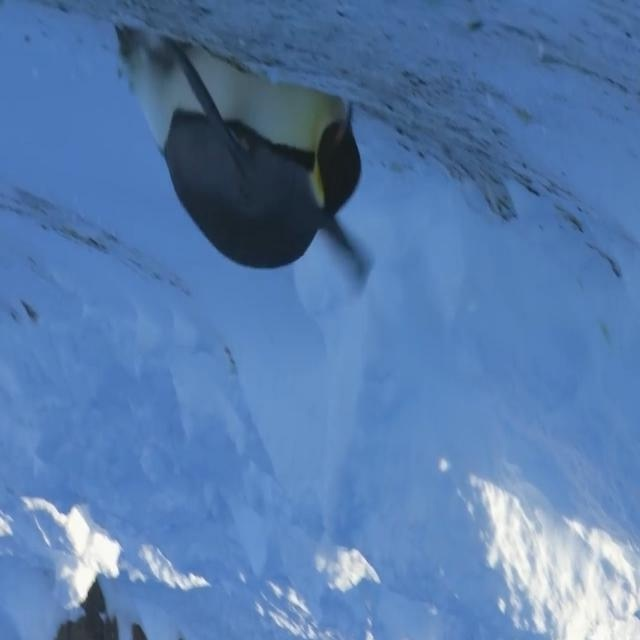penguin: (115, 24, 365, 270)
